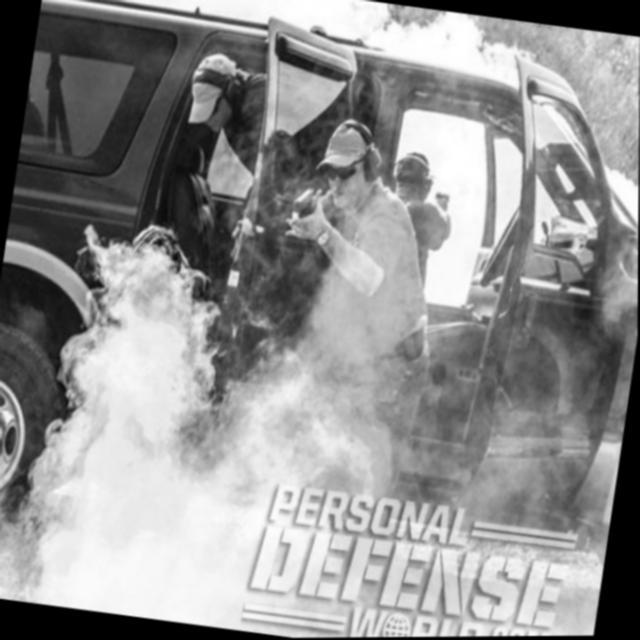weapon: (290, 186, 322, 229), (436, 190, 454, 208)
